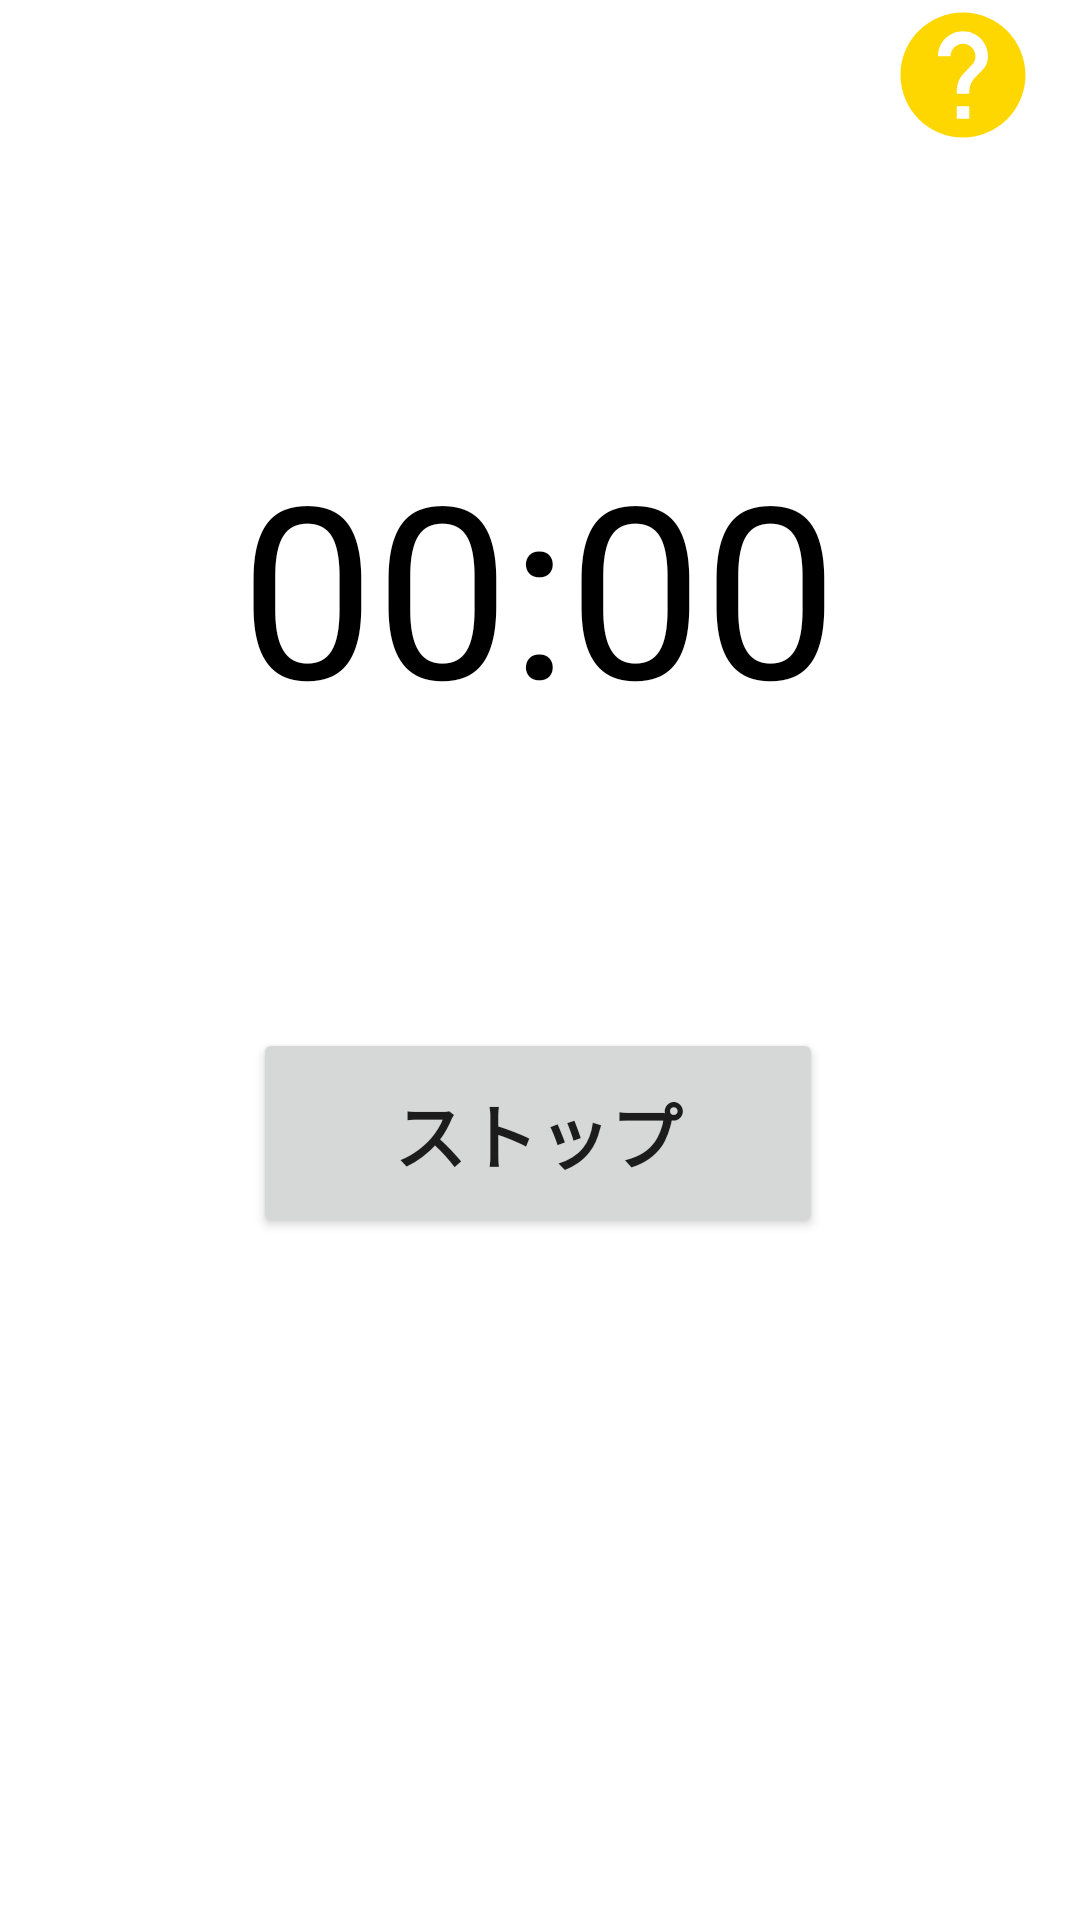

Icons on this 1080*1920 Android screen, each with its box as box=[x1, y1, x2, y2]:
help: box=[900, 12, 1026, 138]
